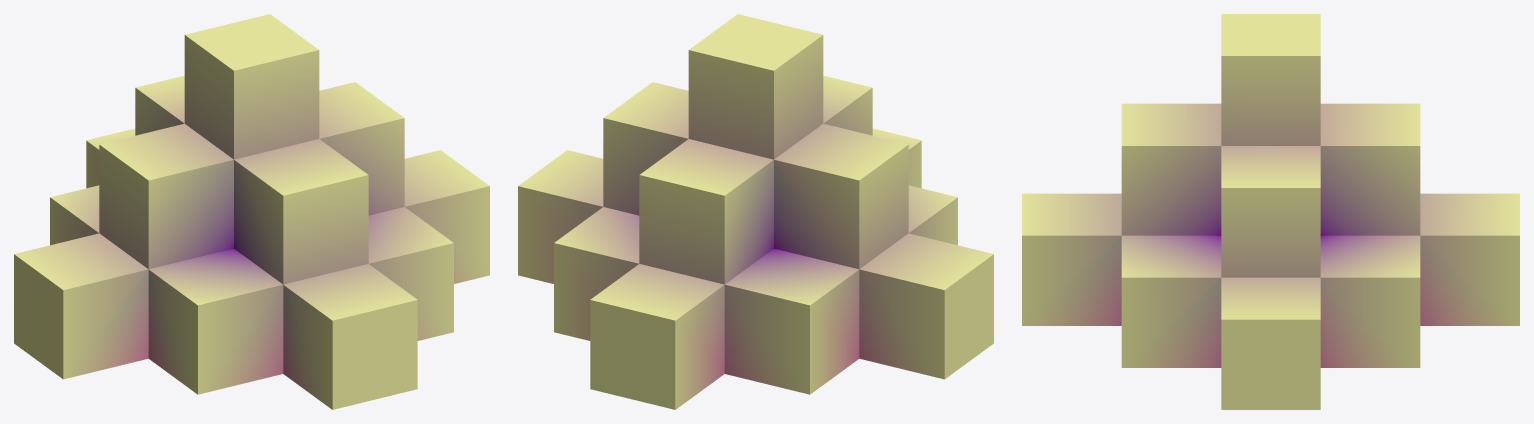
3 views of the same model, side by side, from view 1: azimuth 30°, elevation 25°; view 2: azimuth 150°, elevation 25°; view 3: azimuth 270°, elevation 25° (orthographic).
Visible parts, largest first — view 1: lower_tier; view 2: lower_tier; view 3: lower_tier.
Boxes of the visible parts, x1=… form: lower_tier: x1=14, y1=14, x2=489, y2=409; lower_tier: x1=518, y1=14, x2=993, y2=409; lower_tier: x1=1022, y1=14, x2=1519, y2=409.
Size of the model in its own units: 0.3 by 0.1794 by 0.3.
